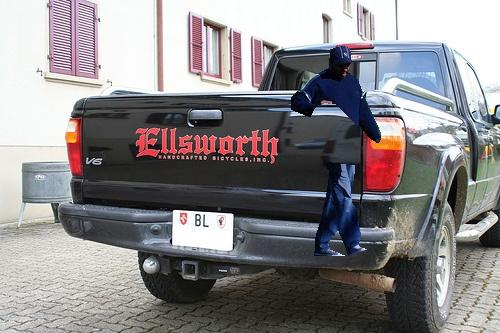tampered: (292, 47, 381, 256)
